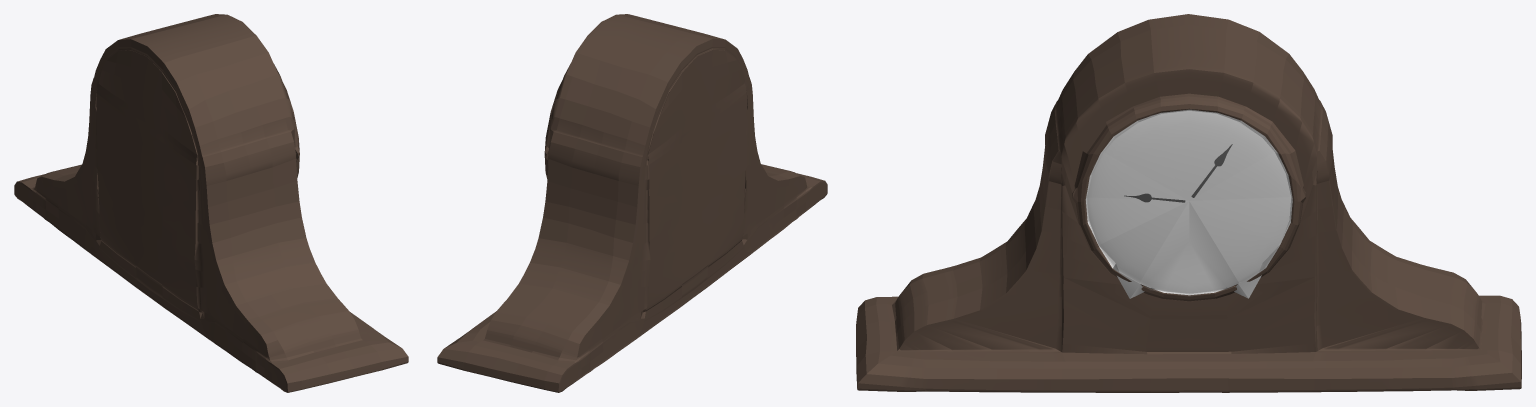
File: clock.gltf
3 renders of one model, left to right at view 1: azimuth 30°, elevation 25°; view 2: azimuth 150°, elevation 25°; view 3: azimuth 270°, elevation 25°, orthographic. The views are drawn at different scales.
Parts seen in each view (by area): view 1: remadeClock; view 2: remadeClock; view 3: remadeClock.
Part boxes in pixels (x1,y1,x2,y2): remadeClock: (14,14,408,392); remadeClock: (437,14,827,392); remadeClock: (856,14,1521,392).
Bounding box in the file's own units: 0.1503 × 0.2883 × 0.556.
